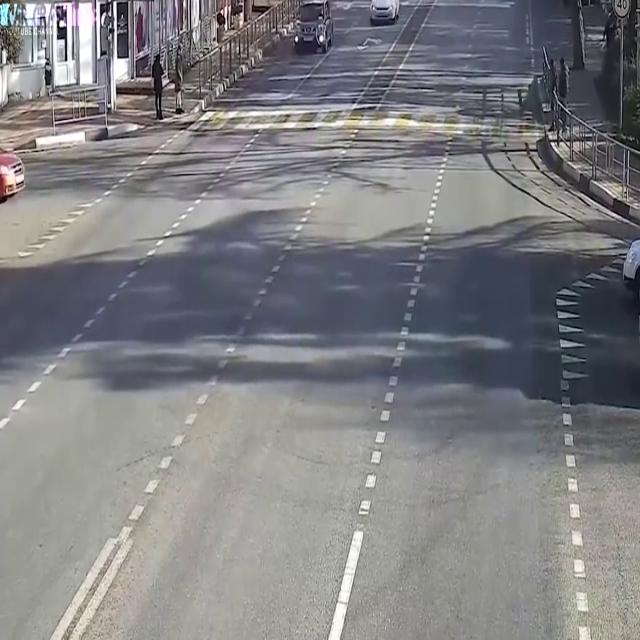noaccident: (0, 9, 640, 493)
